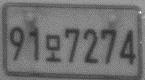1: (27, 27, 40, 62)
2: (82, 27, 99, 64)
4: (117, 29, 137, 66)
7: (99, 28, 117, 65), (62, 27, 80, 63)
9: (9, 26, 25, 62)
모: (43, 33, 62, 63)
